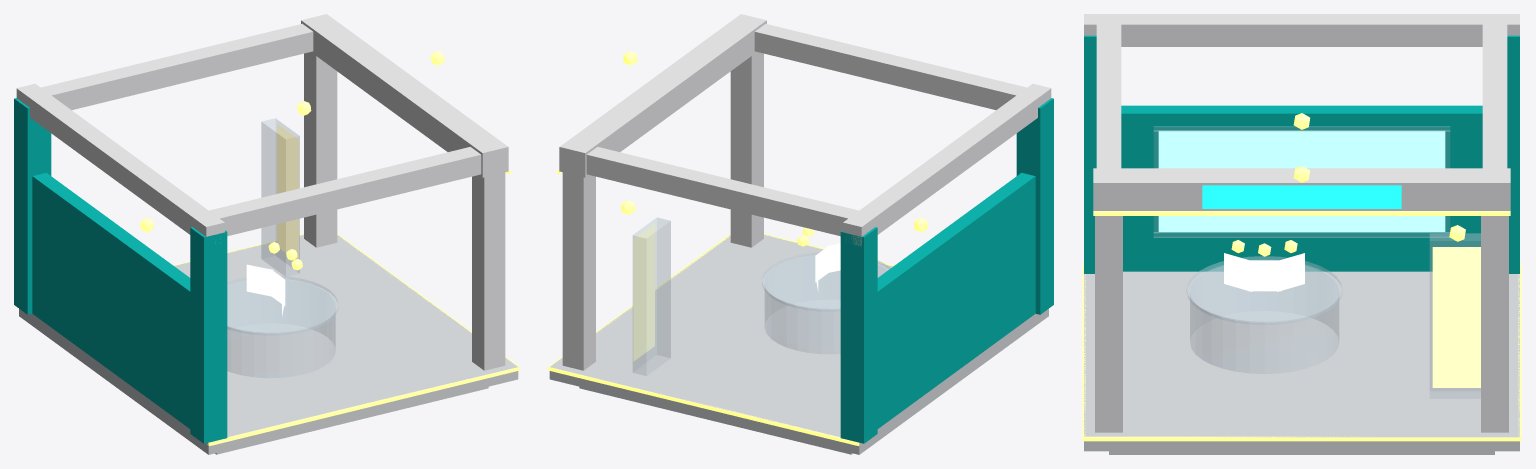
The model's file is Booth_Basic_T02.glb.
3 renders of one model, left to right at view 1: azimuth 30°, elevation 25°; view 2: azimuth 150°, elevation 25°; view 3: azimuth 270°, elevation 25°, orthographic. The views are drawn at different scales.
Visible parts, largest first — view 1: Booth_Basic_T02__Color__Secondary, Booth_Basic_T02__Anti_gravity, Booth_Basic_T02__Color__Primary, Booth_Basic_T02__Frame_003__Product, Booth_Basic_T02, Booth_Basic_T02__Glowing_line, Booth_Basic_T02__Image_02__Display, Booth_Basic_T02__Product_03__Display; view 2: Booth_Basic_T02__Color__Secondary, Booth_Basic_T02__Anti_gravity, Booth_Basic_T02__Color__Primary, Booth_Basic_T02__Frame_003__Product, Booth_Basic_T02, Booth_Basic_T02__Image_02__Display, Booth_Basic_T02__Glowing_line; view 3: Booth_Basic_T02__Anti_gravity, Booth_Basic_T02__Color__Secondary, Booth_Basic_T02__Color__Primary, Booth_Basic_T02__Image_01__Display, Booth_Basic_T02__Frame_003__Product, Booth_Basic_T02__Image_02__Display, Booth_Basic_T02, Booth_Basic_T02__Glowing_line, Booth_Basic_T02__Logo_01__Display, Booth_Basic_T02__Product_02__Display, Booth_Basic_T02__Product_01__Display, Booth_Basic_T02__Product_03__Display.
Boxes of the visible parts, x1=… form: Booth_Basic_T02__Color__Secondary: x1=16, y1=14, x2=508, y2=370; Booth_Basic_T02__Anti_gravity: x1=19, y1=234, x2=518, y2=454; Booth_Basic_T02__Color__Primary: x1=14, y1=98, x2=227, y2=443; Booth_Basic_T02__Frame_003__Product: x1=227, y1=276, x2=337, y2=377; Booth_Basic_T02: x1=140, y1=51, x2=444, y2=276; Booth_Basic_T02__Glowing_line: x1=173, y1=169, x2=519, y2=445; Booth_Basic_T02__Image_02__Display: x1=277, y1=124, x2=298, y2=259; Booth_Basic_T02__Product_03__Display: x1=246, y1=264, x2=273, y2=296; Booth_Basic_T02__Color__Secondary: x1=559, y1=14, x2=1051, y2=370; Booth_Basic_T02__Anti_gravity: x1=549, y1=234, x2=1048, y2=454; Booth_Basic_T02__Color__Primary: x1=840, y1=98, x2=1053, y2=443; Booth_Basic_T02__Frame_003__Product: x1=762, y1=252, x2=890, y2=353; Booth_Basic_T02: x1=621, y1=51, x2=927, y2=375; Booth_Basic_T02__Image_02__Display: x1=633, y1=223, x2=654, y2=361; Booth_Basic_T02__Glowing_line: x1=548, y1=169, x2=894, y2=445; Booth_Basic_T02__Anti_gravity: x1=1084, y1=271, x2=1519, y2=454; Booth_Basic_T02__Color__Secondary: x1=1084, y1=14, x2=1519, y2=432; Booth_Basic_T02__Color__Primary: x1=1084, y1=35, x2=1519, y2=273; Booth_Basic_T02__Image_01__Display: x1=1158, y1=130, x2=1445, y2=232; Booth_Basic_T02__Frame_003__Product: x1=1187, y1=256, x2=1341, y2=373; Booth_Basic_T02__Image_02__Display: x1=1432, y1=247, x2=1480, y2=387; Booth_Basic_T02: x1=1153, y1=113, x2=1480, y2=398; Booth_Basic_T02__Glowing_line: x1=1082, y1=211, x2=1521, y2=441; Booth_Basic_T02__Logo_01__Display: x1=1202, y1=185, x2=1401, y2=208; Booth_Basic_T02__Product_02__Display: x1=1247, y1=260, x2=1281, y2=291; Booth_Basic_T02__Product_01__Display: x1=1224, y1=253, x2=1252, y2=291; Booth_Basic_T02__Product_03__Display: x1=1277, y1=253, x2=1304, y2=291.
Bounding box in the file's own units: 7.13 × 5.45 × 7.06.
